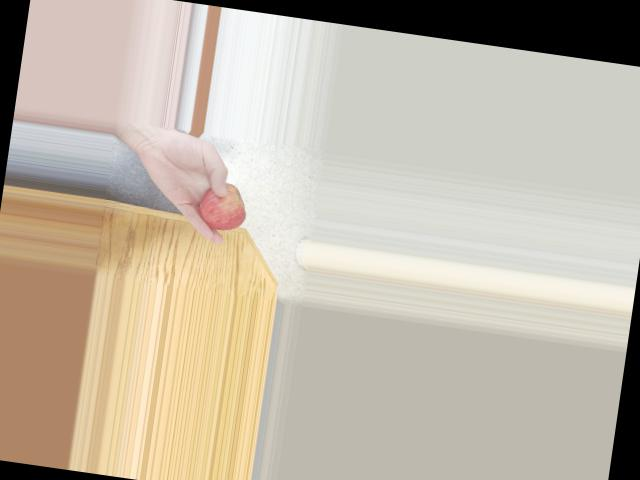apple: (193, 173, 252, 234)
